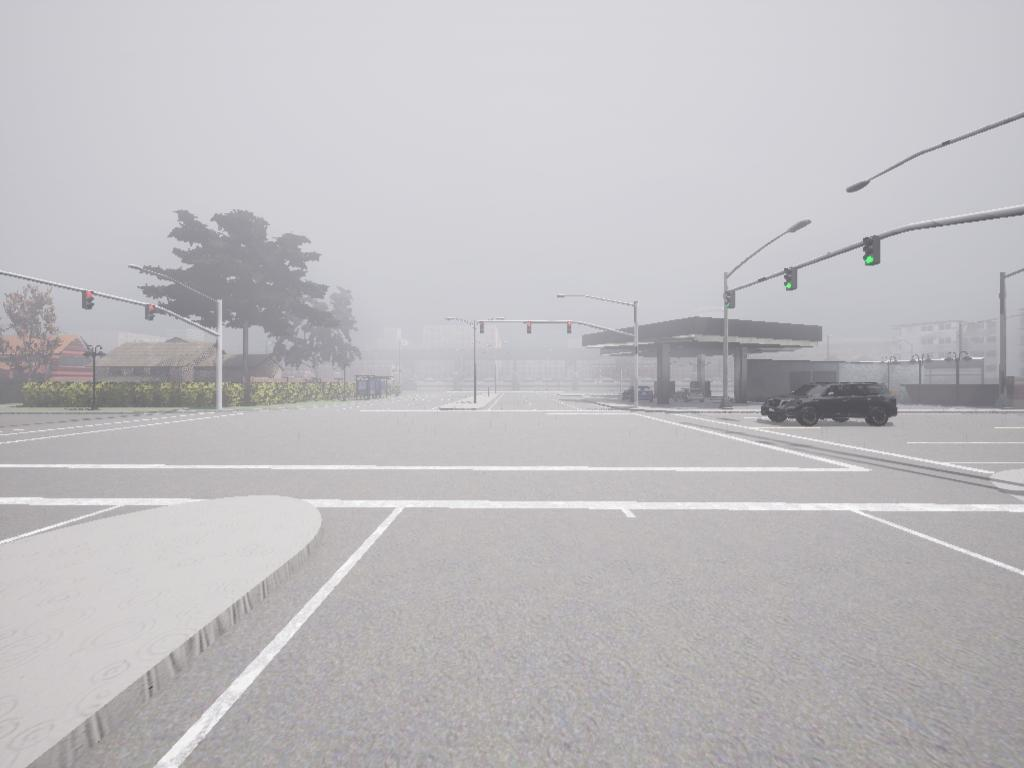traffic_light: (863, 237, 881, 268), (784, 267, 796, 292), (724, 290, 738, 308), (84, 290, 95, 312), (146, 306, 157, 322), (525, 322, 534, 335), (479, 319, 487, 333), (567, 320, 573, 338)
